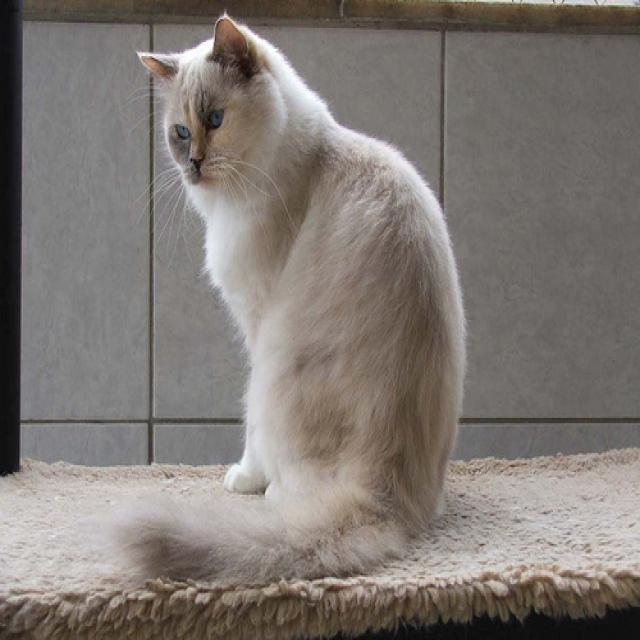Ragdoll: (136, 14, 268, 192)
